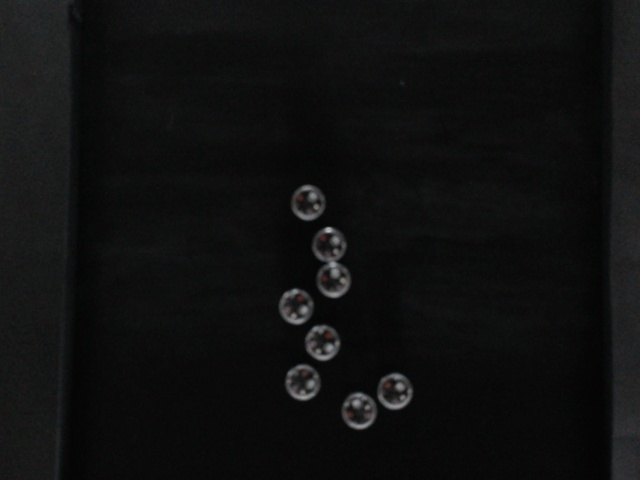epuck_2: (303, 323, 341, 362), (314, 262, 352, 298), (377, 372, 413, 410), (341, 392, 376, 431), (285, 365, 321, 401), (291, 184, 325, 220), (279, 288, 313, 324), (312, 226, 345, 262)
